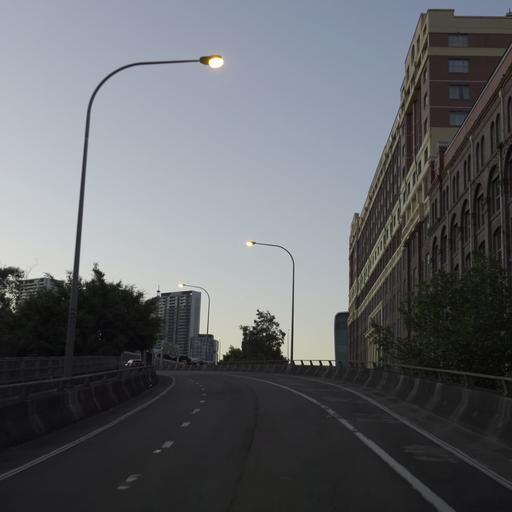Street light: (62, 52, 224, 370), (245, 239, 295, 364), (177, 281, 210, 361)
